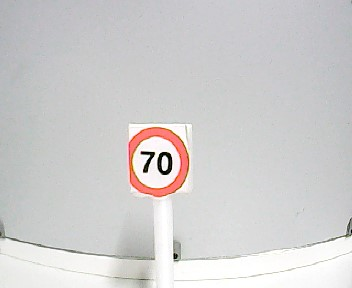70-bord: (128, 127, 189, 197)
